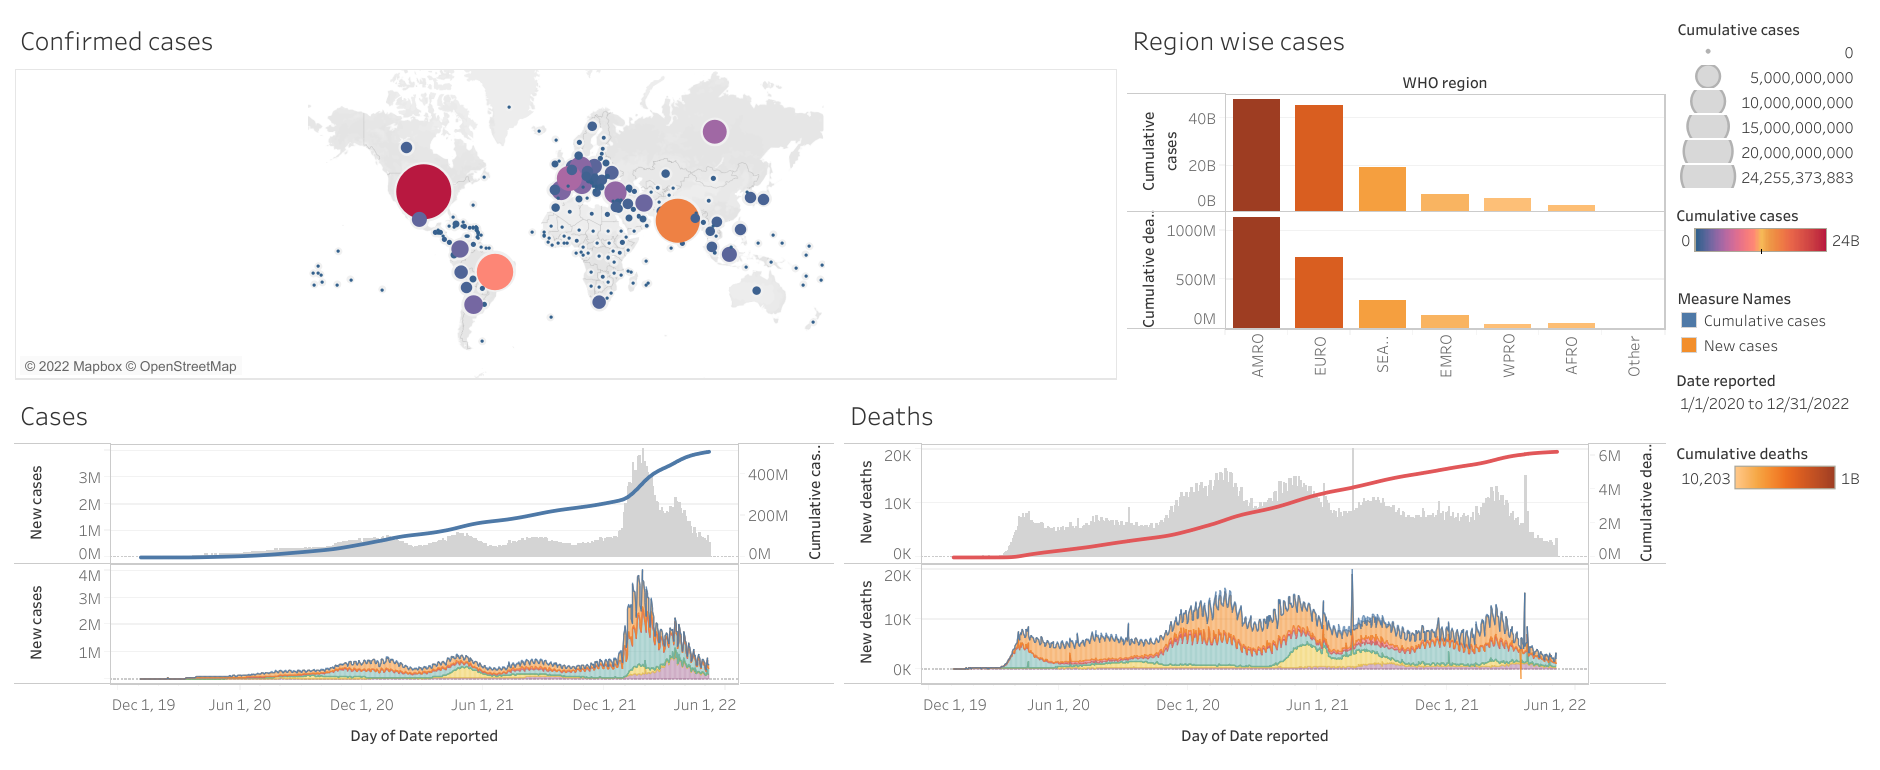

This screenshot's page, from the dashboard's own definition file:
{"tool":"tableau","page":{"name":"Dashboard 1","canvas":[1000,1000],"units":"permille","ordinal":0},"visuals":[{"type":"worksheet","title":"Confirmed cases","mark":"Automatic","box":[4.9,9.3,597.1,490.7]},{"type":"worksheet","title":"Region wise cases","mark":"Automatic","rows":["Cumulative_cases","Cumulative_deaths"],"cols":["WHO_region"],"box":[602,9.3,294.7,490.7]},{"type":"legend","title":"Confirmed cases","param":"[federated.0enp6wl0cm6ne51g0af1r0zunlap].[sum:Cumulative_cases:qk]","box":[896.7,9.3,98.4,181.2]},{"type":"legend","title":"Confirmed cases","param":"[federated.0enp6wl0cm6ne51g0af1r0zunlap].[sum:Cumulative_cases:qk]","box":[896.7,190.5,98.4,84.8]},{"type":"legend","title":"Cases","param":"[federated.0enp6wl0cm6ne51g0af1r0zunlap].[:Measure Names]","box":[896.7,275.2,98.4,83.6]},{"type":"filter","title":"Deaths","param":"[federated.0enp6wl0cm6ne51g0af1r0zunlap].[none:Date_reported:qk]","box":[896.7,358.9,98.4,65]},{"type":"legend","title":"Region wise cases","param":"[federated.0enp6wl0cm6ne51g0af1r0zunlap].[sum:Cumulative_deaths:qk]","box":[896.7,423.9,98.4,84.8]},{"type":"worksheet","title":"Cases","mark":"Automatic","rows":["New_cases","Cumulative_cases","New_cases"],"cols":["Date_reported"],"box":[4.9,500,445.9,490.8]},{"type":"worksheet","title":"Deaths","mark":"Automatic","rows":["New_deaths","Cumulative_deaths","New_deaths"],"cols":["Date_reported"],"box":[450.8,500,445.9,490.8]}]}

Visuals, with their boxes on the dashboard's canvas, which has no fixed pixel size, in thousandths of its width and height (x1, y1, x2, y2). These are canvas units, not pixel positions in the 1880x770 screenshot, which may show the page scaled, cropped or inside an application window:
"Confirmed cases" worksheet: bbox(5, 9, 602, 500)
"Region wise cases" worksheet: bbox(602, 9, 897, 500)
"Confirmed cases" legend: bbox(897, 9, 995, 190)
"Confirmed cases" legend: bbox(897, 190, 995, 275)
"Cases" legend: bbox(897, 275, 995, 359)
"Deaths" filter: bbox(897, 359, 995, 424)
"Region wise cases" legend: bbox(897, 424, 995, 509)
"Cases" worksheet: bbox(5, 500, 451, 991)
"Deaths" worksheet: bbox(451, 500, 897, 991)
